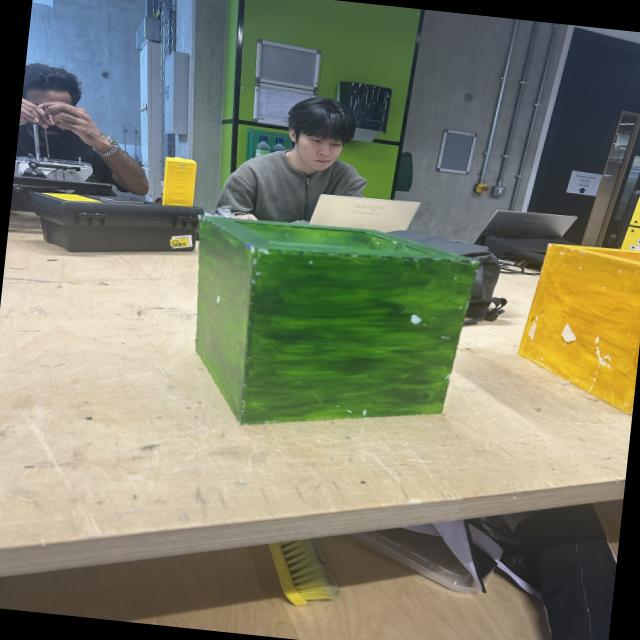green_bin: (176, 210, 481, 448)
